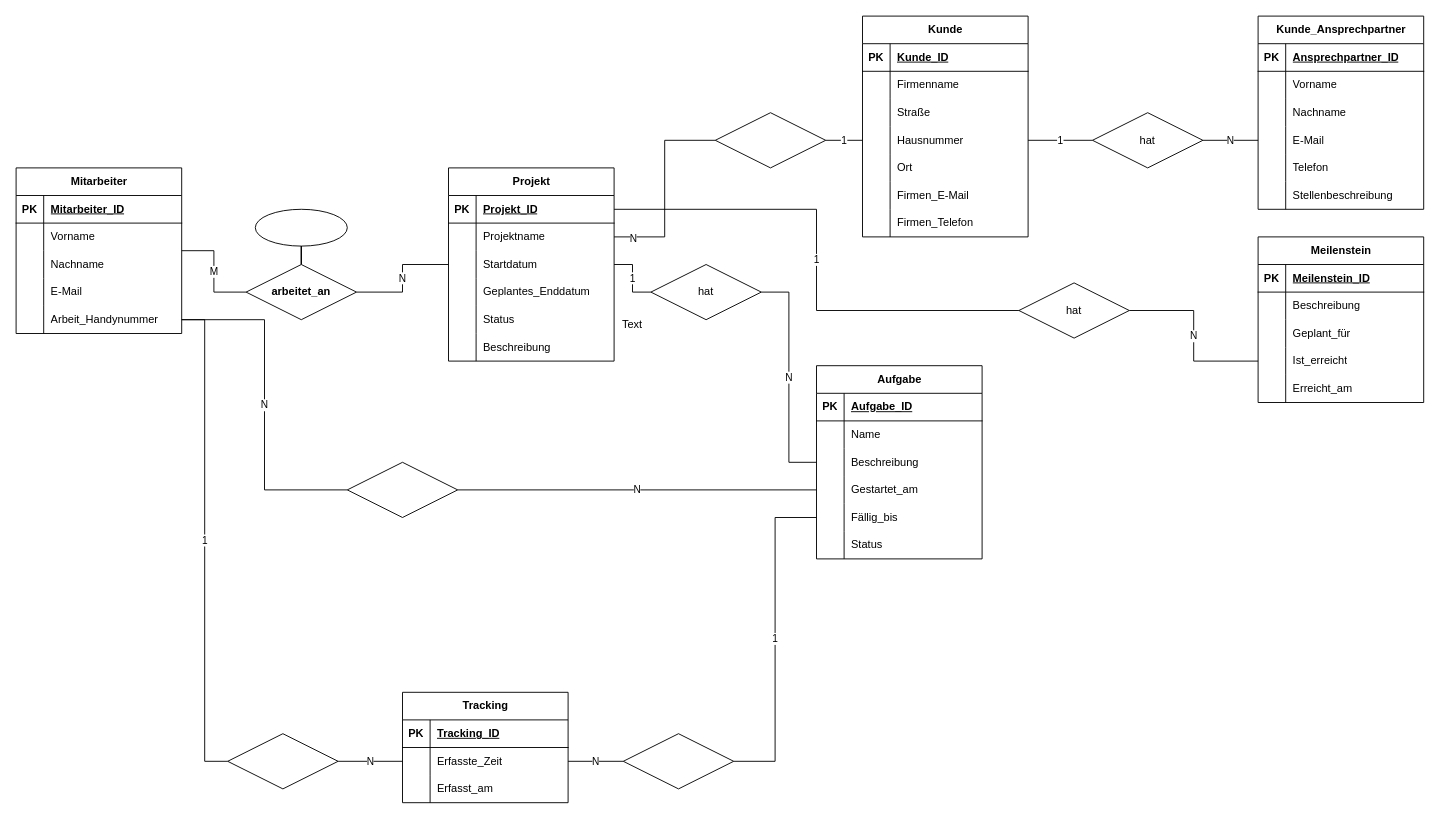
Image size: 1440x819. Some labels were removed from this diagram. The shapes that lost their labels are listed below. From the top down, each one's centre as x and y in pixels, then its label:
pixel 770 140: gibt_in_Auftrag
pixel 300 227: Rolle
pixel 402 489: bearbeitet
pixel 282 761: erfasst
pixel 678 761: gehört_zu
